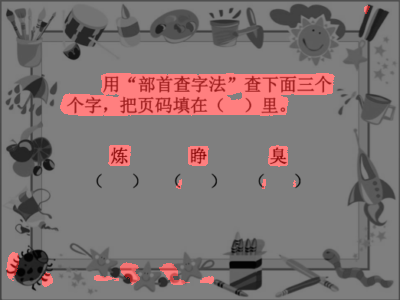text: (102, 72, 335, 95), (64, 93, 289, 113), (105, 145, 129, 164), (188, 144, 207, 166), (269, 147, 289, 164)
